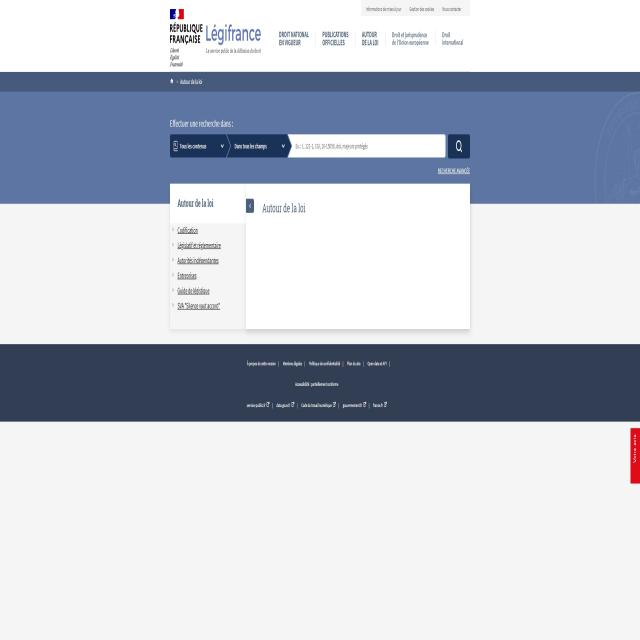menu-bar: (358, 4, 470, 14)
menu-panel: (170, 219, 230, 316)
search: (288, 127, 474, 164)
tab-bar: (274, 28, 466, 50)
